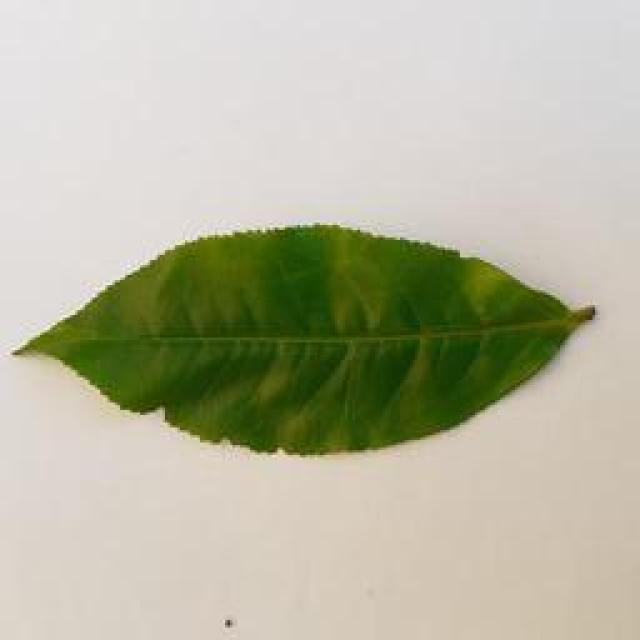Healthy: (4, 216, 636, 466)
